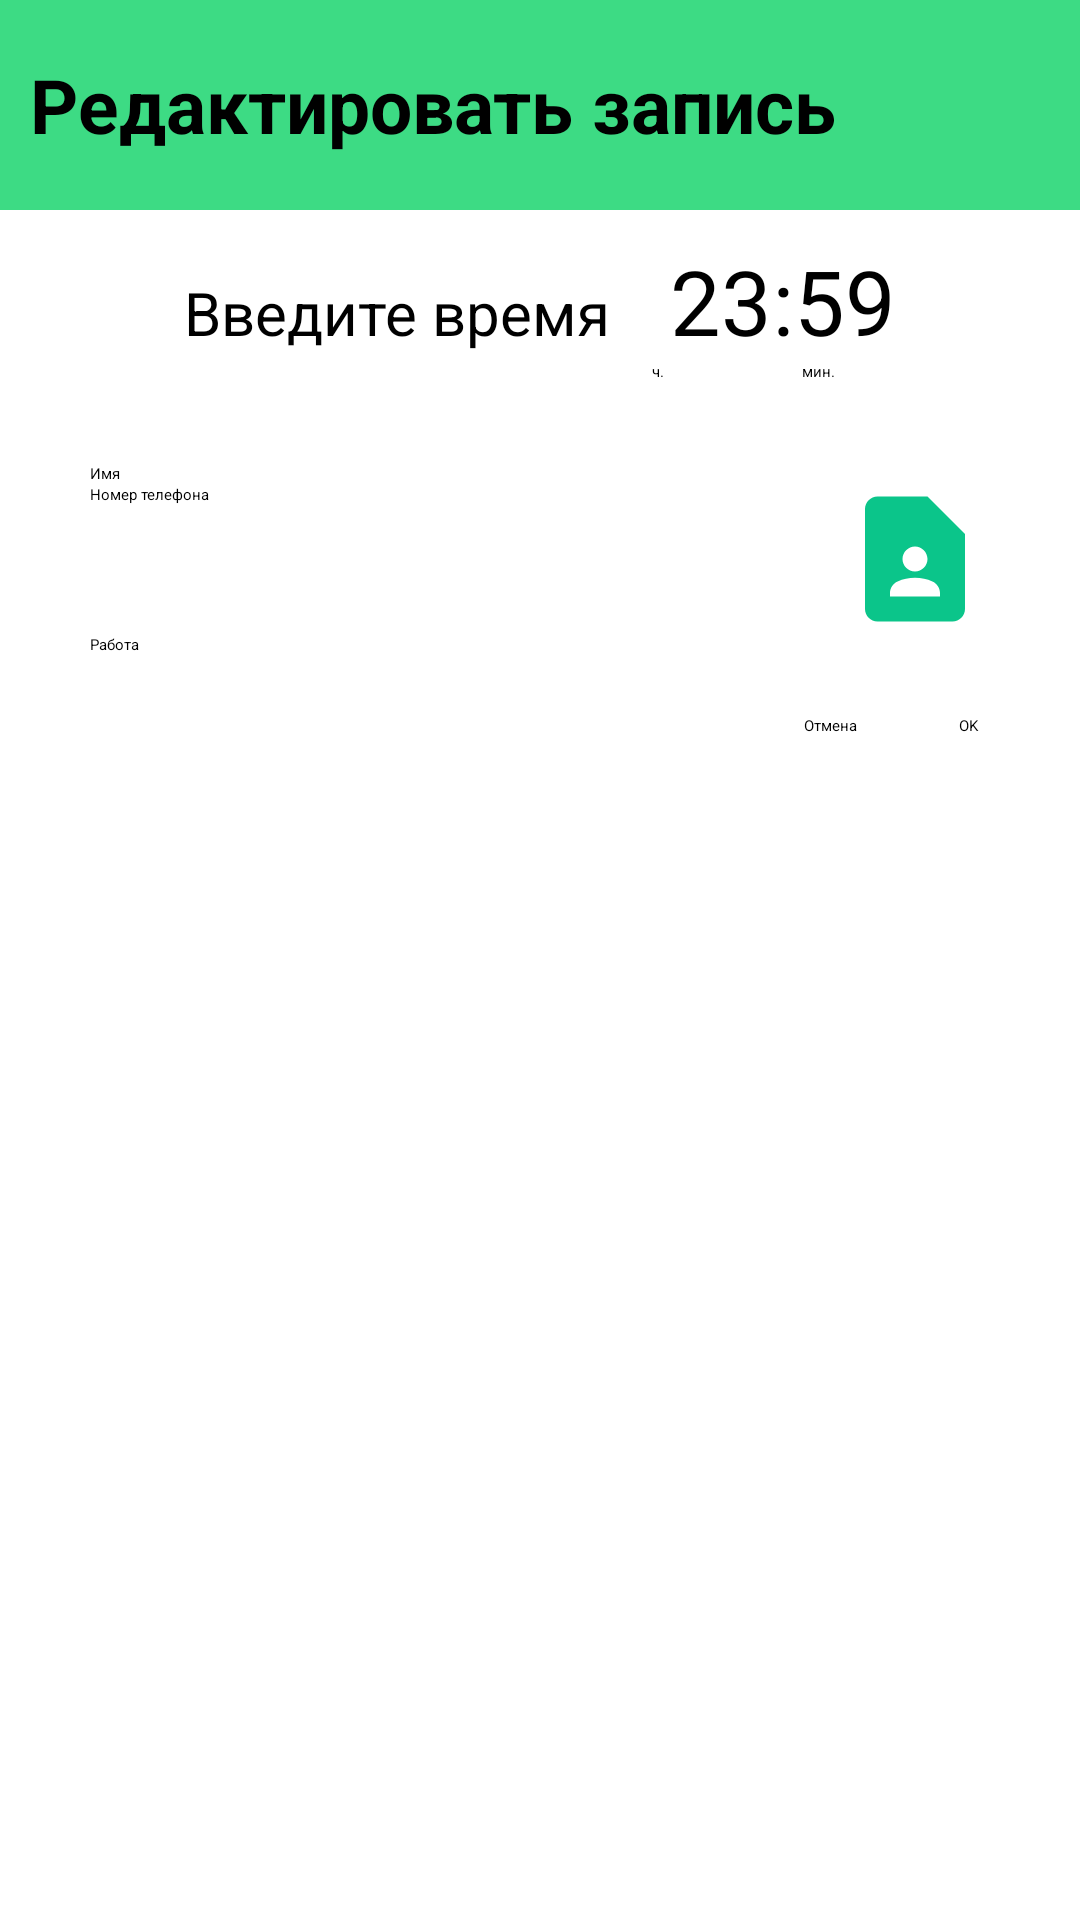

Screen size 1080 × 1920. Icon name, then its box in pixels as (x1, y1, x2, y2):
contact page: (865, 496, 965, 622)
